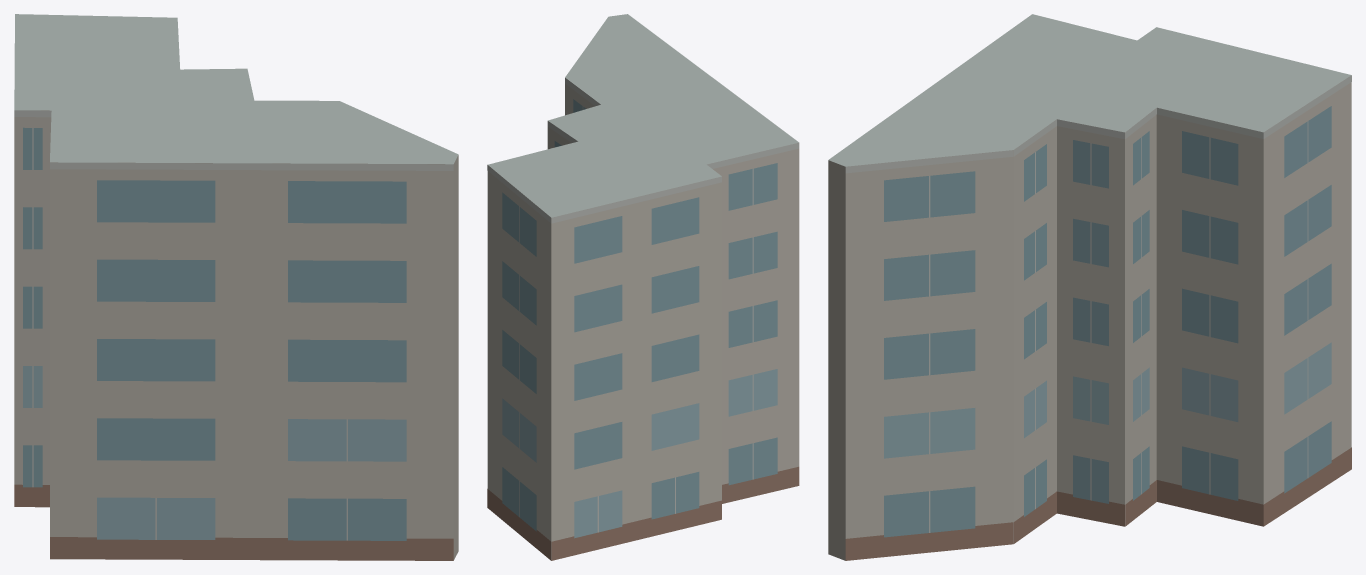
The model's file is survey-upis-32746918.glb.
The picture shows the model from 3 angles, left to right: view 1: azimuth 30°, elevation 25°; view 2: azimuth 150°, elevation 25°; view 3: azimuth 270°, elevation 25°; orthographic projection. The views are drawn at different scales.
Parts seen in each view (by area): view 1: survey-upis-32746918.tmp; view 2: survey-upis-32746918.tmp; view 3: survey-upis-32746918.tmp.
Boxes of the visible parts, bbox=[...] form: survey-upis-32746918.tmp: bbox=[14, 14, 458, 560]; survey-upis-32746918.tmp: bbox=[487, 14, 799, 560]; survey-upis-32746918.tmp: bbox=[828, 14, 1351, 560].
Bounding box in the file's own units: 11.79 × 14.18 × 17.08.
